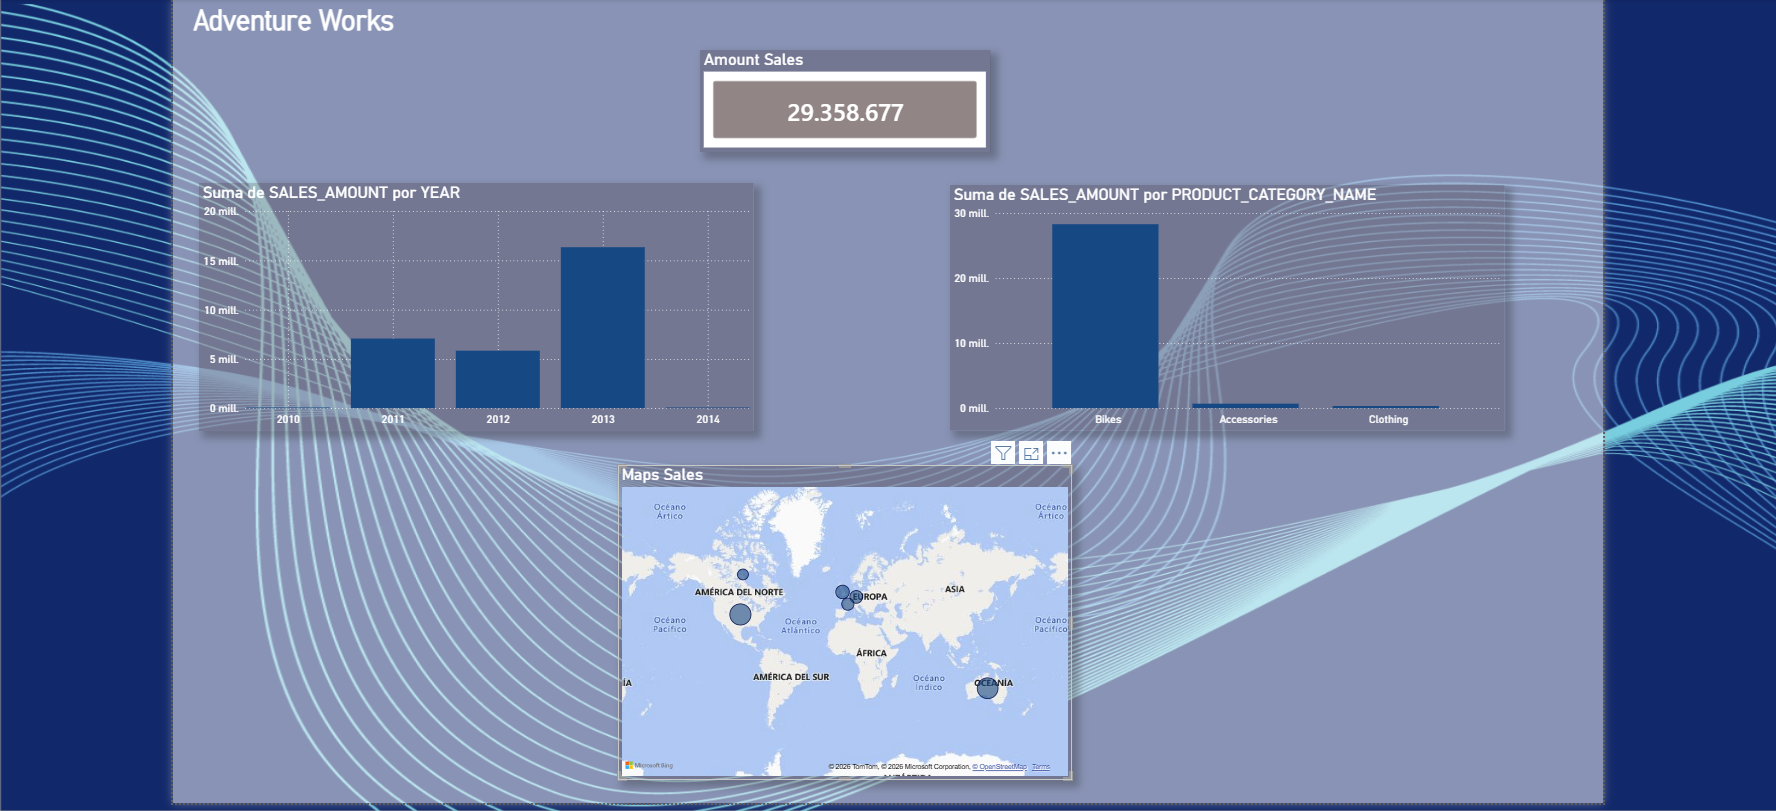

This screenshot's page, from the dashboard's own definition file:
{"tool":"powerbi","page":{"name":"Dashboard","canvas":[1920,1080],"ordinal":0},"visuals":[{"type":"cardVisual","title":"Amount Sales","fields":{"Data":["Sum(ventas_adventure.SALES_AMOUNT)"]},"box":[707.6,69.2,389.7,137],"z":0},{"type":"columnChart","fields":{"Category":["ventas_adventure.YEAR"],"Y":["Sum(ventas_adventure.SALES_AMOUNT)"]},"box":[34.6,247.4,744.8,332.5],"z":1000},{"type":"columnChart","fields":{"Category":["ventas_adventure.PRODUCT_CATEGORY_NAME"],"Y":["Sum(ventas_adventure.SALES_AMOUNT)"]},"box":[1044.1,250,744.8,329.9],"z":2000},{"type":"map","title":"Maps Sales","fields":{"Category":["ventas_adventure.COUNTRY"],"Size":["Sum(ventas_adventure.SALES_AMOUNT)"]},"box":[597.2,626.5,610.5,423],"z":3000},{"type":"textbox","box":[0,0,324.5,57.2],"z":4000}]}

Visuals, with their boxes in screenshot pixels (x1, y1, x2, y2):
"Amount Sales" cardVisual: 828, 68, 1106, 165
columnChart - ventas_adventure.YEAR x Sum(ventas_adventure.SALES_AMOUNT): 348, 195, 879, 432
columnChart - ventas_adventure.PRODUCT_CATEGORY_NAME x Sum(ventas_adventure.SALES_AMOUNT): 1068, 197, 1599, 432
"Maps Sales" map: 749, 465, 1185, 767
textbox: 324, 18, 555, 59
